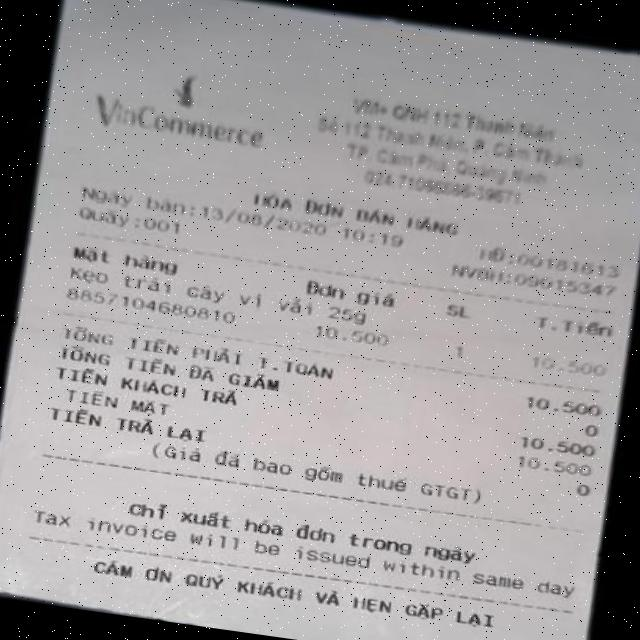Date: (197, 200, 331, 242)
Store_Name: (70, 54, 284, 156)
amount_number: (518, 386, 610, 424)
label_total: (61, 318, 338, 384)
